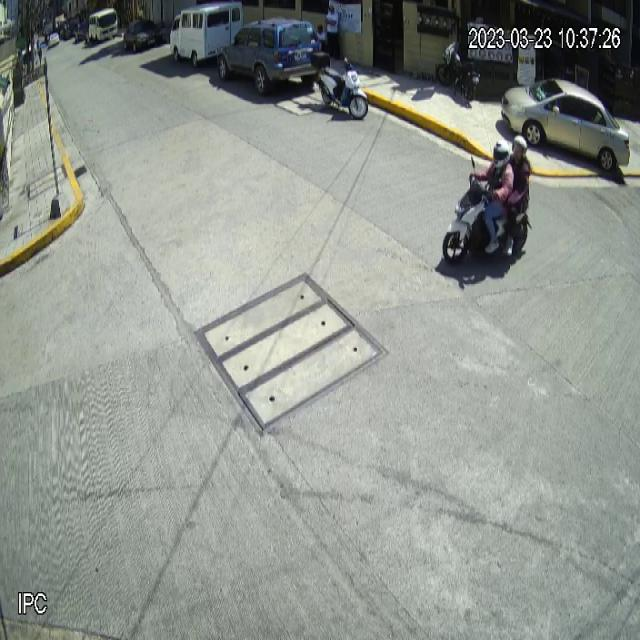Car: (500, 76, 631, 175), (216, 17, 322, 98)
Motorcycle: (442, 172, 532, 269), (311, 49, 371, 125)
Van: (169, 1, 245, 67)
